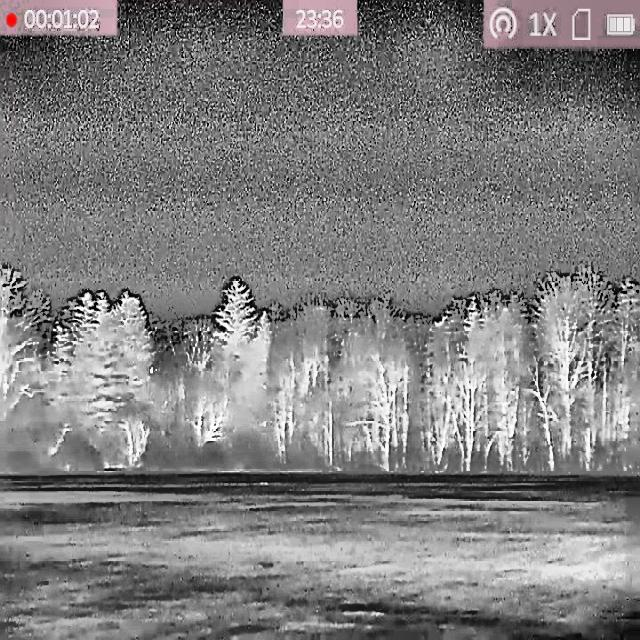drone: (147, 364, 158, 376)
